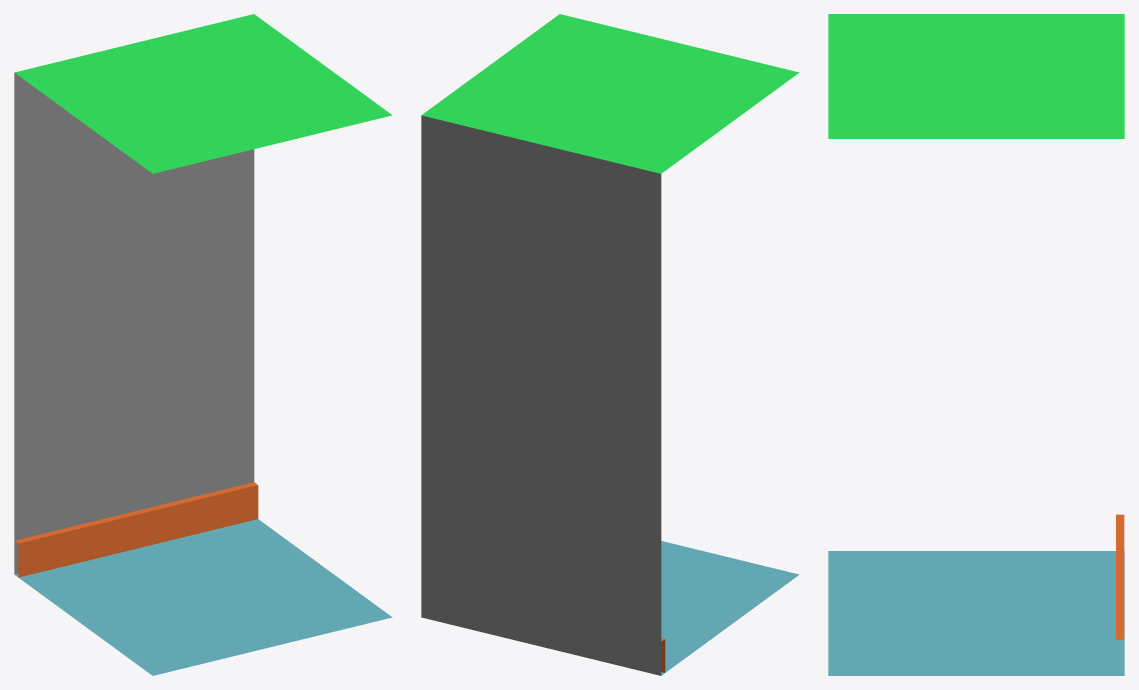
File: ModuleA_side4.FBX
3 views of the same model, side by side, from view 1: azimuth 30°, elevation 25°; view 2: azimuth 150°, elevation 25°; view 3: azimuth 270°, elevation 25° (orthographic). The views are drawn at different scales.
Parts seen in each view (by area): view 1: ModuleA_wall_05, ModuleA_roof_06, ModuleA_floor_06, ModuleA_skboard_06; view 2: ModuleA_wall_05, ModuleA_roof_06, ModuleA_floor_06; view 3: ModuleA_roof_06, ModuleA_floor_06, ModuleA_skboard_06.
Boxes of the visible parts, box(x1,y1,x2,y2) form: ModuleA_wall_05: box(14, 73, 254, 574); ModuleA_roof_06: box(14, 14, 392, 173); ModuleA_floor_06: box(14, 519, 392, 675); ModuleA_skboard_06: box(15, 482, 258, 577); ModuleA_wall_05: box(421, 115, 661, 675); ModuleA_roof_06: box(421, 14, 799, 173); ModuleA_floor_06: box(661, 541, 799, 675); ModuleA_roof_06: box(828, 14, 1124, 138); ModuleA_floor_06: box(828, 551, 1124, 675); ModuleA_skboard_06: box(1116, 514, 1124, 639).
Size of the model in its own units: 39.37 by 39.37 by 78.74.
